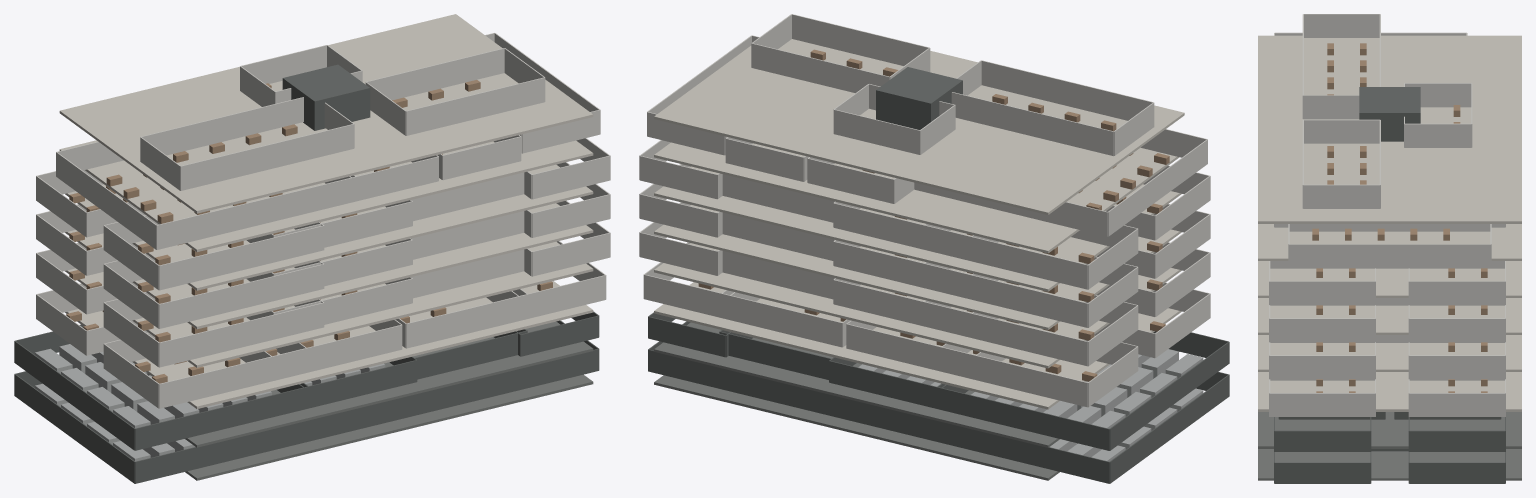
The model's file is main-workplace.glb.
3 renders of one model, left to right at view 1: azimuth 30°, elevation 25°; view 2: azimuth 150°, elevation 25°; view 3: azimuth 270°, elevation 25°, orthographic. The views are drawn at different scales.
Parts seen in each view (by area): view 1: ROOF_ROOF_slab, L4_L4_slab, L1_L1_slab, L2_L2_slab, L3_L3_slab, G_G_slab, B1_B1_slab, L4_flex_neighborhood_north, B2_B2_slab, ROOF_solar_north, L1_ai_data_north, L2_sales_workspace_north (+49 smaller); view 2: ROOF_ROOF_slab, L4_L4_slab, G_G_slab, L3_L3_slab, L2_L2_slab, L1_L1_slab, B1_B1_slab, B2_B2_slab, L1_tech_workspace_south, L3_people_wellbeing_south, L2_sales_collab_south, ROOF_solar_south (+49 smaller); view 3: ROOF_ROOF_slab, L4_multipurpose_capacity_east, G_G_slab, L4_L4_slab, B1_B1_slab, L2_L2_slab, L3_L3_slab, L1_L1_slab, B2_B2_slab, L1_collab_focus_east, L2_client_call_meet_east, L3_meeting_records_east (+22 smaller).
Part boxes in pixels (<box>): ROOF_ROOF_slab: <box>59,14,593,213</box>; L4_L4_slab: <box>59,140,593,251</box>; L1_L1_slab: <box>65,241,593,367</box>; L2_L2_slab: <box>65,203,593,329</box>; L3_L3_slab: <box>65,164,593,290</box>; G_G_slab: <box>65,281,593,408</box>; B1_B1_slab: <box>185,321,593,447</box>; L4_flex_neighborhood_north: <box>156,176,356,249</box>; B2_B2_slab: <box>185,374,593,480</box>; ROOF_solar_north: <box>180,124,354,190</box>; L1_ai_data_north: <box>159,302,324,367</box>; L2_sales_workspace_north: <box>159,264,324,328</box>; ROOF_ROOF_slab: <box>654,39,1184,214</box>; L4_L4_slab: <box>654,142,1179,253</box>; G_G_slab: <box>654,282,1181,409</box>; L3_L3_slab: <box>654,166,1181,291</box>; L2_L2_slab: <box>654,205,1181,329</box>; L1_L1_slab: <box>654,243,1181,368</box>; B1_B1_slab: <box>654,322,1179,447</box>; B2_B2_slab: <box>654,375,1059,480</box>; L1_tech_workspace_south: <box>924,301,1087,366</box>; L3_people_wellbeing_south: <box>924,225,1087,289</box>; L2_sales_collab_south: <box>924,263,1087,327</box>; ROOF_solar_south: <box>951,92,1113,156</box>; ROOF_ROOF_slab: <box>1258,35,1521,223</box>; L4_multipurpose_capacity_east: <box>1289,244,1490,268</box>; G_G_slab: <box>1258,372,1521,411</box>; L4_L4_slab: <box>1258,224,1521,260</box>; B1_B1_slab: <box>1258,412,1521,448</box>; L2_L2_slab: <box>1258,298,1521,334</box>; L3_L3_slab: <box>1258,261,1521,297</box>; L1_L1_slab: <box>1258,335,1521,371</box>; B2_B2_slab: <box>1258,449,1521,480</box>; L1_collab_focus_east: <box>1269,355,1375,379</box>; L2_client_call_meet_east: <box>1269,318,1375,342</box>; L3_meeting_records_east: <box>1269,281,1375,305</box>.
Bounding box in the file's own units: 54.62 × 32.99 × 27.43.
